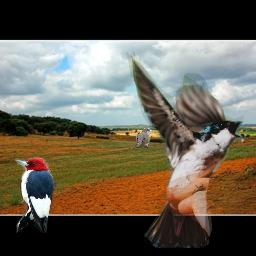Cuckoo: (135, 128, 154, 148)
Swallow: (125, 51, 244, 248)
Woodpecker: (15, 155, 56, 234)
